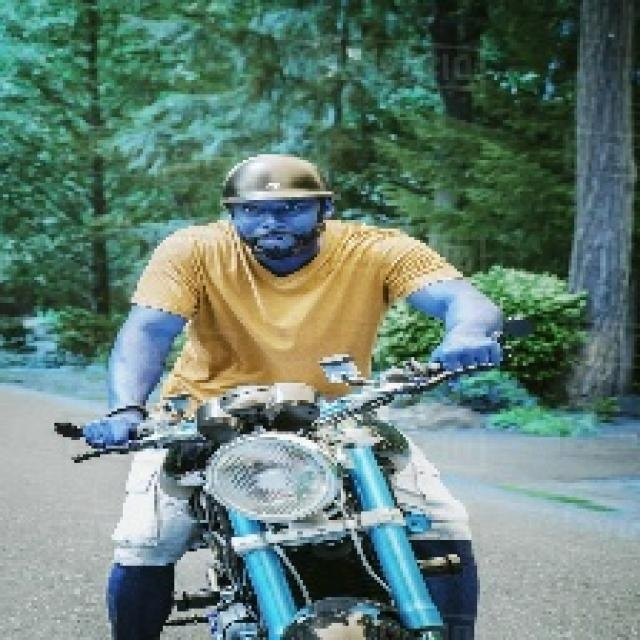Motorcycle: (162, 152, 472, 640)
